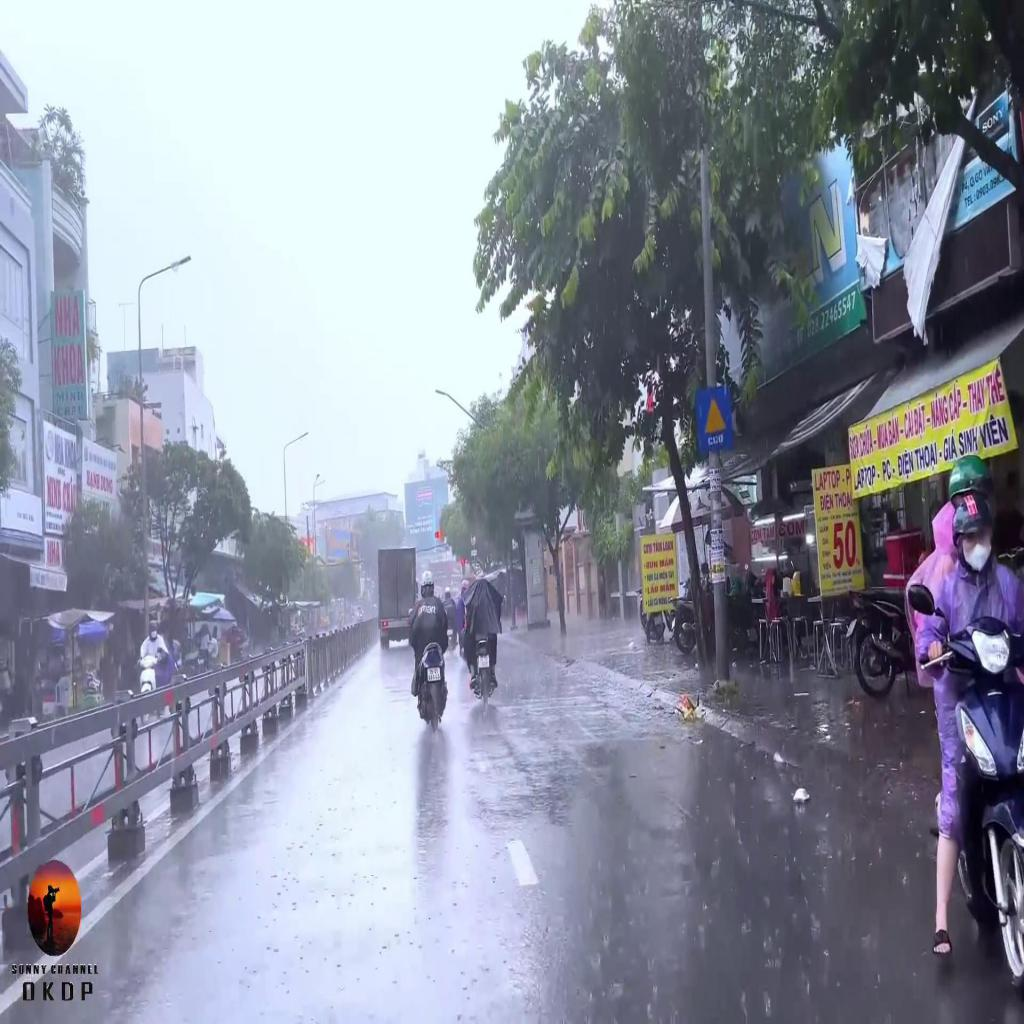cho: (697, 387, 732, 453)
